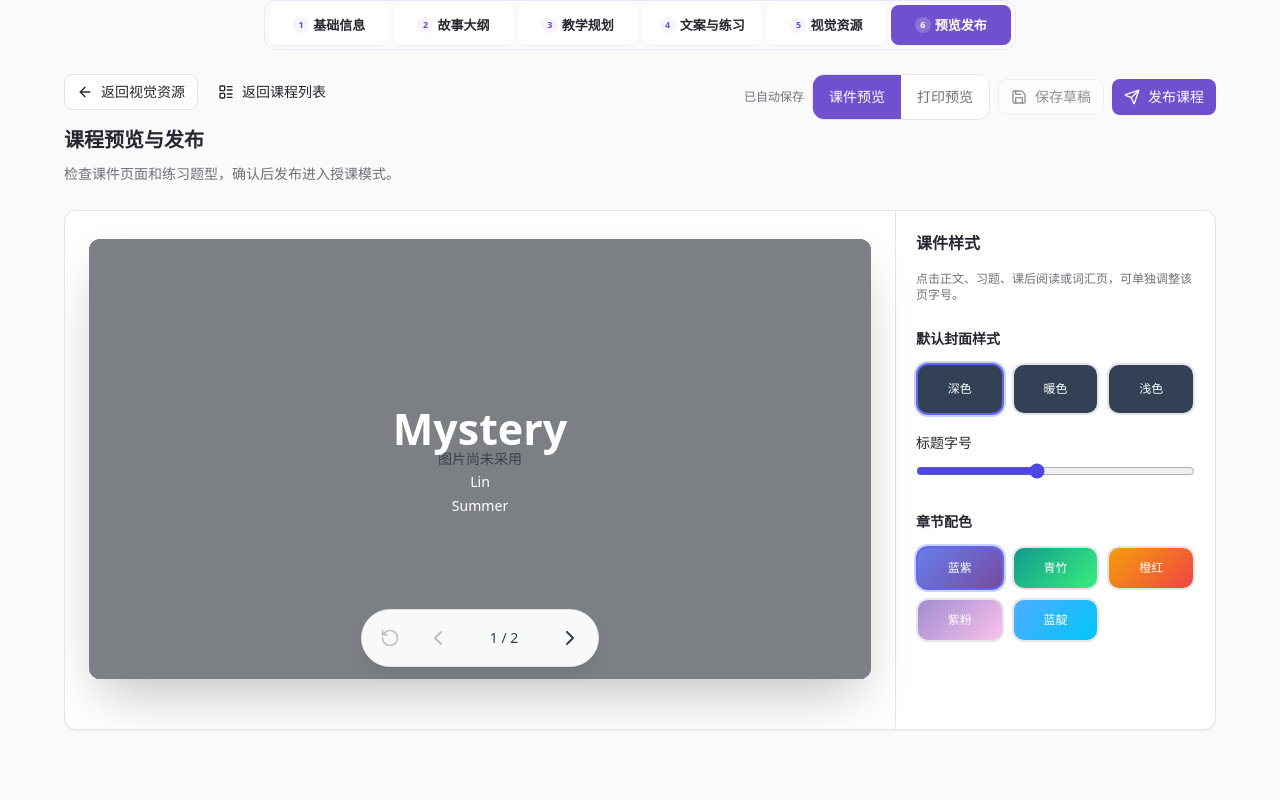
Test: CoursePreviewWorkspace › keeps the previous editor layout and exposes the new exercise page labels
This screenshot has width=1280, height=800.
expect the heading "课程预览与发布" is shown: met, box [64,126,204,153]
expect the button "课件预览" is shown: met, box [813,75,901,119]
Click the button named "下一页" at (570, 638), box [548,616,592,660]
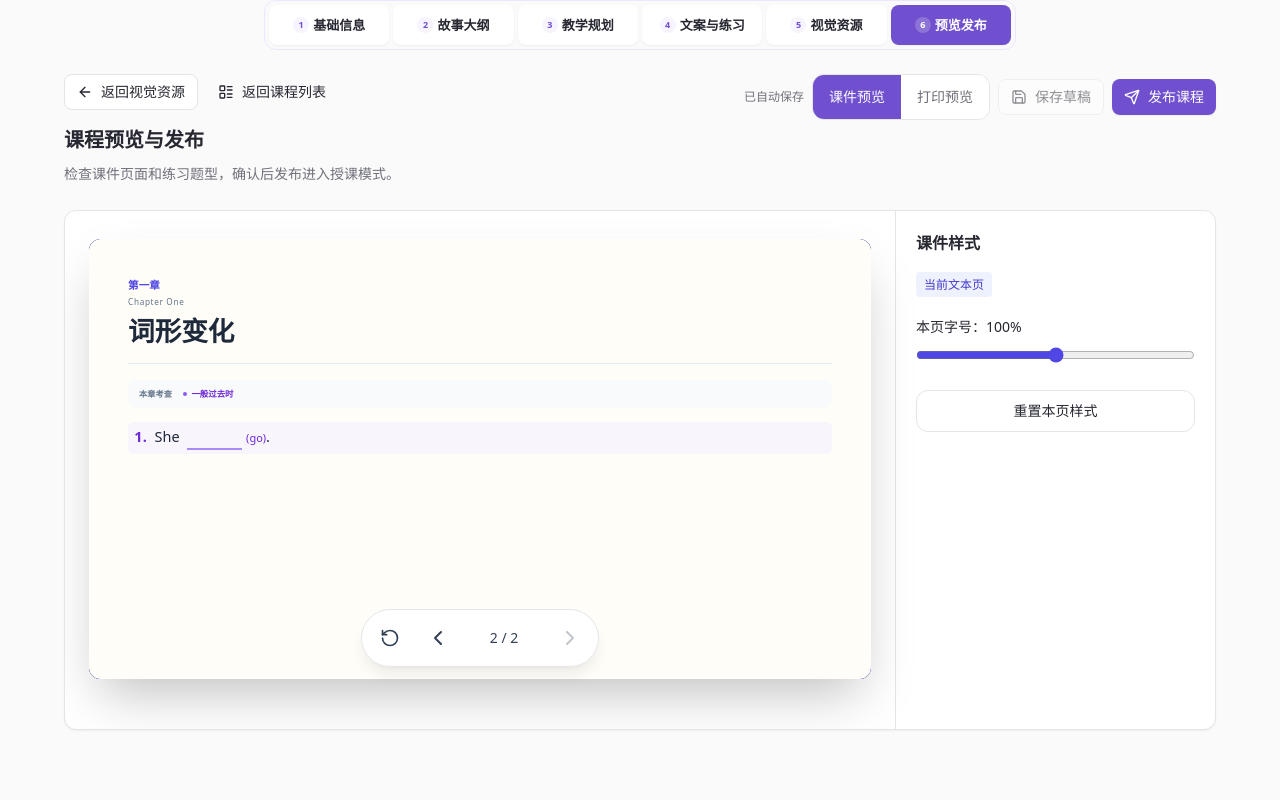
expect the heading "词形变化" is shown: met, box [128,313,234,349]
expect the text "(go)" is shown: met, box [246,430,266,445]
Click the button named "显示第 1 题答案" at (215, 438), box [187,426,242,450]
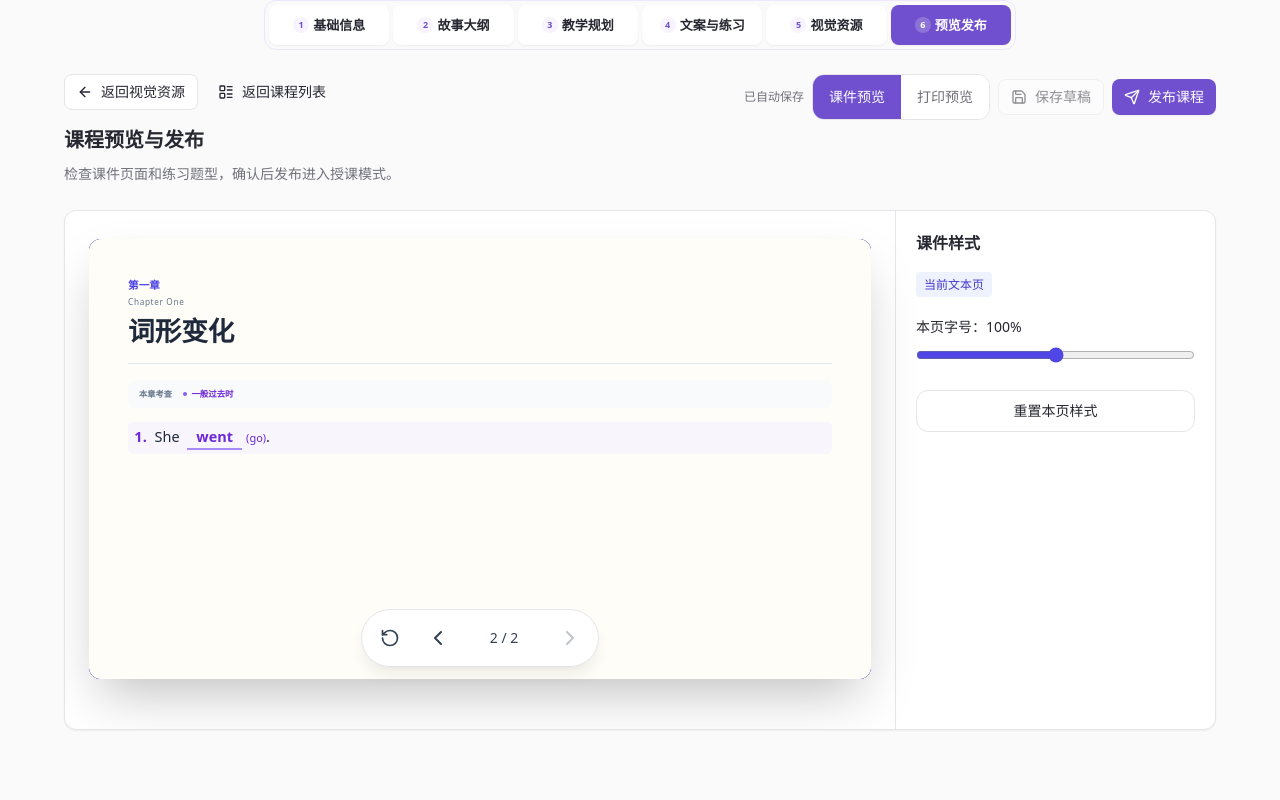
expect the button with aria-label "隐藏第 1 题答案" reads "went": met, box [187,426,242,450]
Press ArrowLeft in the slider labelled "本页字号", box [916,347,1195,363]
expect the heading "词形变化" is shown: met, box [128,313,234,349]
Press ArrowLeft
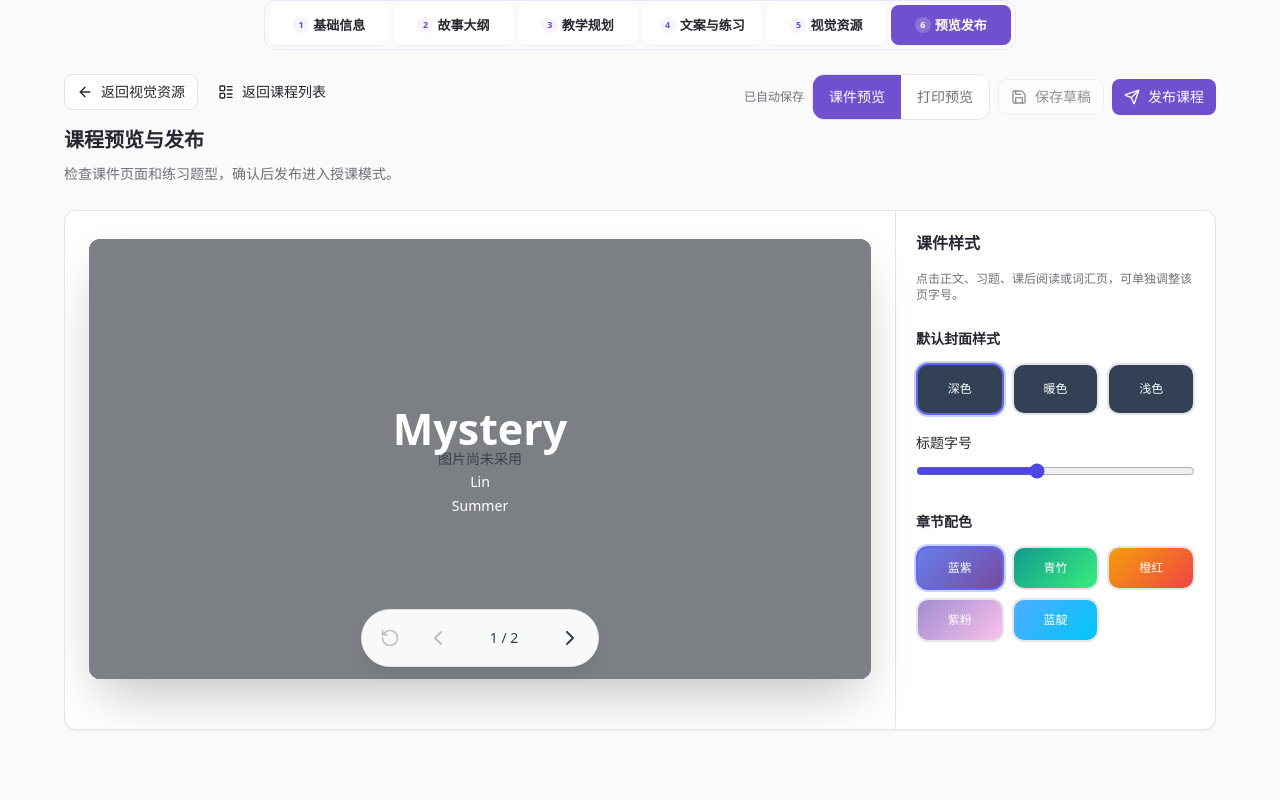
expect the heading "Mystery" is shown: met, box [393,402,567,455]
